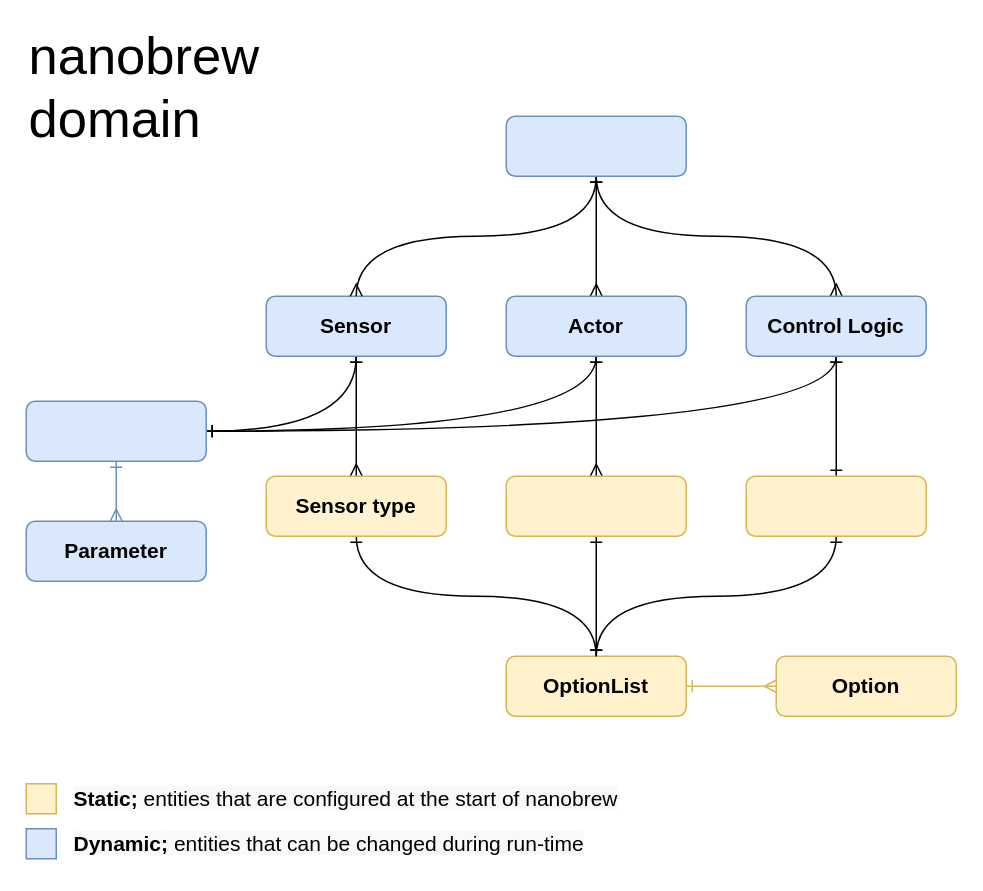
Image size: 983x891. Some labels were removed from this diagram. Each missing label, with the box of its shape:
Kettle: (505, 115, 686, 176)
Logic type: (745, 475, 926, 536)
Output type: (505, 475, 686, 536)
ParameterList: (25, 400, 206, 461)
